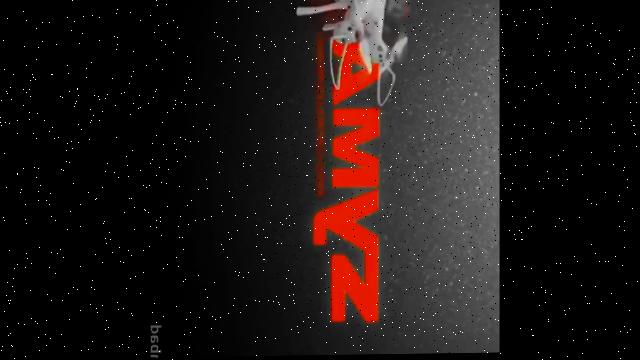drone: (295, 0, 423, 108)
